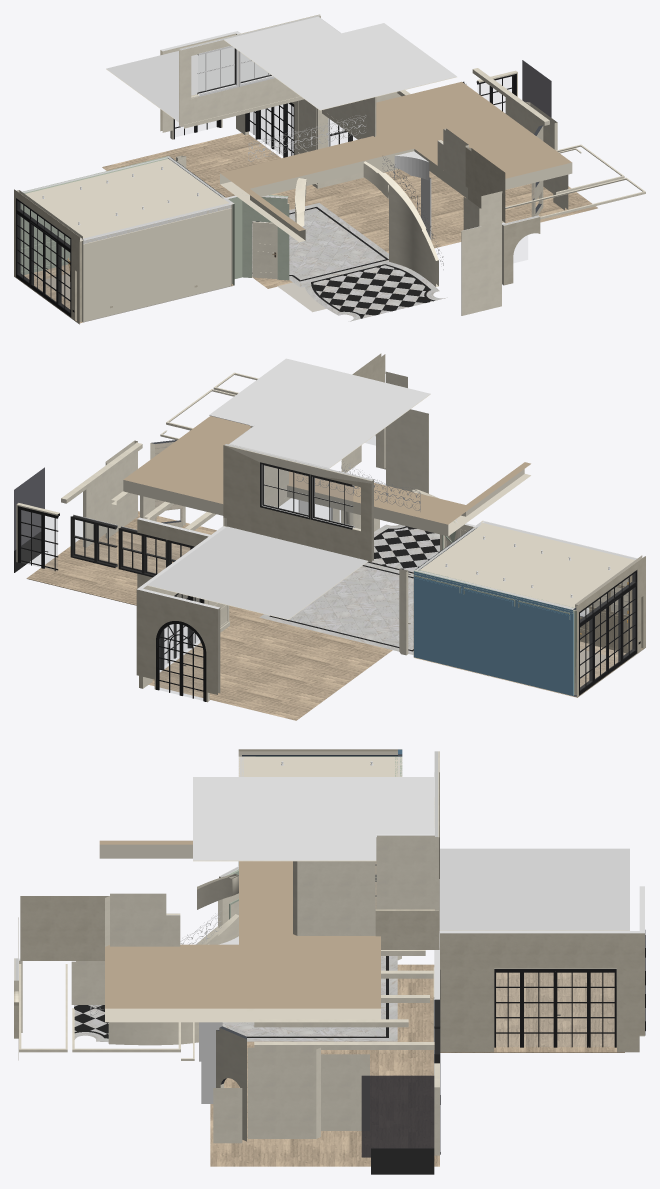
Rendered from dining-room-04b01cdc842b.glb.
3 renders of one model, top to bottom at view 1: azimuth 30°, elevation 25°; view 2: azimuth 150°, elevation 25°; view 3: azimuth 270°, elevation 25°, orthographic. The views are drawn at different scales.
Parts seen in each view (by area): view 1: dining-room-look-2575515a05775d9e, dining-room-d999b7e09afcf2f4, dining-room-look-9d91b47435c6fb33, dining-room-look-3b0077416469e01b, dining-room-2575515a05775d9e, dining-room-look-4a969f5cc1ae3dfe, dining-room-look-245f595ae2832e16, dining-room-look-e388ad8855329420, dining-room-look-6ea1225136f14ed6, dining-room-look-d5a4a1b5d3594c04, dining-room-look-8c6a7019fd0063e7, dining-room-701dbbc71a4c8bc6 (+37 smaller); view 2: dining-room-look-3b0077416469e01b, dining-room-b19b106fc304963c, dining-room-look-9d91b47435c6fb33, dining-room-look-2575515a05775d9e, dining-room-look-4a969f5cc1ae3dfe, dining-room-2575515a05775d9e, dining-room-look-245f595ae2832e16, dining-room-look-6ea1225136f14ed6, dining-room-look-969b861f9850351e, dining-room-look-d5a4a1b5d3594c04, dining-room-look-cdd3b97a7e9637be, dining-room-701dbbc71a4c8bc6 (+27 smaller); view 3: dining-room-look-2575515a05775d9e, dining-room-look-3b0077416469e01b, dining-room-look-9d91b47435c6fb33, dining-room-look-4a969f5cc1ae3dfe, dining-room-look-e706aa16b4547c37, dining-room-look-5b6bbac285e58726, dining-room-look-69af8f587252f9fa, dining-room-look-62353aa10fc57f23, dining-room-look-cbd4bf73d9724a66, dining-room-look-32b959c9aa406288, dining-room-look-99336d62df756830, dining-room-2575515a05775d9e (+21 smaller).
Part boxes in pixels (x1,y1,x2,y2): dining-room-look-2575515a05775d9e: (220,81,572,242); dining-room-d999b7e09afcf2f4: (83,203,230,321); dining-room-look-9d91b47435c6fb33: (224,17,456,110); dining-room-look-3b0077416469e01b: (102,133,597,288); dining-room-2575515a05775d9e: (14,159,233,241); dining-room-look-4a969f5cc1ae3dfe: (106,47,270,122); dining-room-look-245f595ae2832e16: (179,14,320,126); dining-room-look-e388ad8855329420: (313,265,432,318); dining-room-look-6ea1225136f14ed6: (252,208,385,280); dining-room-look-d5a4a1b5d3594c04: (461,221,501,315); dining-room-look-8c6a7019fd0063e7: (363,161,438,286); dining-room-701dbbc71a4c8bc6: (16,198,71,316); dining-room-look-3b0077416469e01b: (26,511,392,720); dining-room-b19b106fc304963c: (413,570,573,695); dining-room-look-9d91b47435c6fb33: (209,358,430,468); dining-room-look-2575515a05775d9e: (123,416,530,536); dining-room-look-4a969f5cc1ae3dfe: (147,526,368,619); dining-room-2575515a05775d9e: (415,520,645,610); dining-room-look-245f595ae2832e16: (223,444,373,561); dining-room-look-6ea1225136f14ed6: (289,566,413,649); dining-room-look-969b861f9850351e: (136,587,220,694); dining-room-look-d5a4a1b5d3594c04: (386,409,428,493); dining-room-look-cdd3b97a7e9637be: (260,462,310,519); dining-room-701dbbc71a4c8bc6: (579,570,637,695); dining-room-look-2575515a05775d9e: (99,840,380,1022); dining-room-look-3b0077416469e01b: (210,964,624,1166); dining-room-look-9d91b47435c6fb33: (193,777,434,861); dining-room-look-4a969f5cc1ae3dfe: (439,848,629,930); dining-room-look-e706aa16b4547c37: (440,931,639,1052); dining-room-look-5b6bbac285e58726: (247,1047,320,1138); dining-room-look-69af8f587252f9fa: (293,861,375,935); dining-room-look-62353aa10fc57f23: (20,896,109,960); dining-room-look-cbd4bf73d9724a66: (361,1075,434,1157); dining-room-look-32b959c9aa406288: (376,835,434,909); dining-room-look-99336d62df756830: (321,1054,369,1130); dining-room-2575515a05775d9e: (238,749,402,776).
Size of the model in its own units: 20 by 6.36 by 16.79.
Materials: 52 (16 with a texture image).
